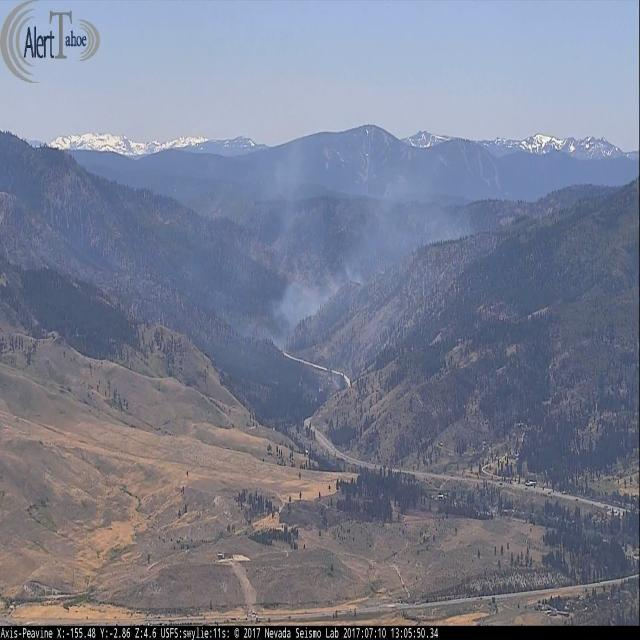smoke: (280, 266, 356, 342)
